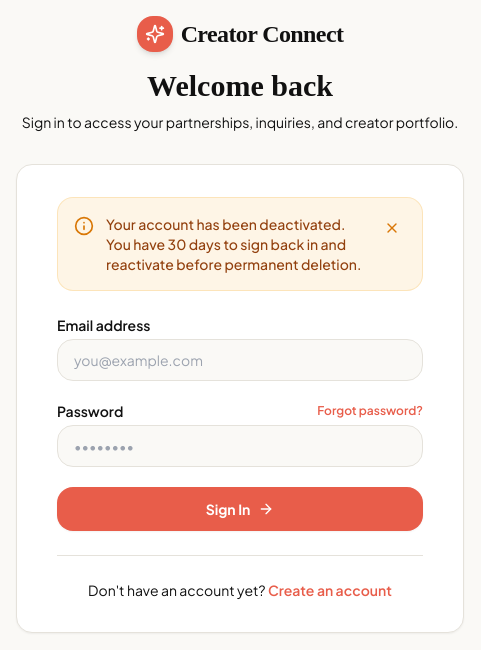
it: Phase 3B Comprehensive Frontend E2E & Flow Verification › 6. Account Lifecycle & Banners (Phase 13B) › renders LoginPage with dismissible accountDeactivated banner when navigated with state.accountDeactivated
This screenshot has width=481, height=650.
Expected: the text "Your account has been deactivated. You have 30 days to sign back in and reactivate before permanent deletion." is shown, [106,214,361,272]
Click the button named "Dismiss banner" at (392, 228), box [378,214,406,242]
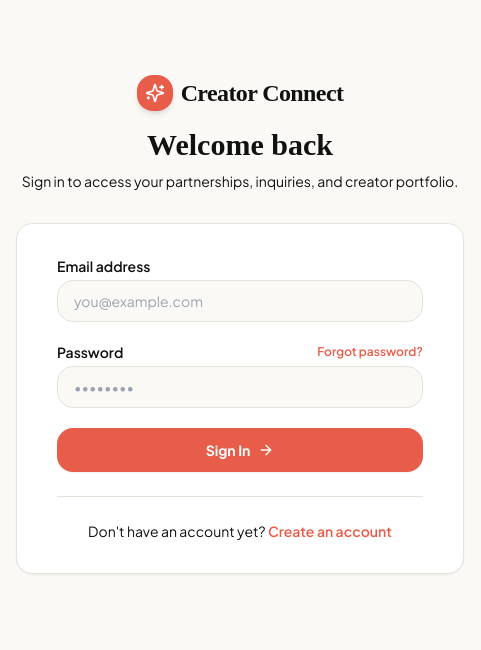
Now the text "Your account has been deactivated. You have 30 days to sign back in and reactivate before permanent deletion." is gone
